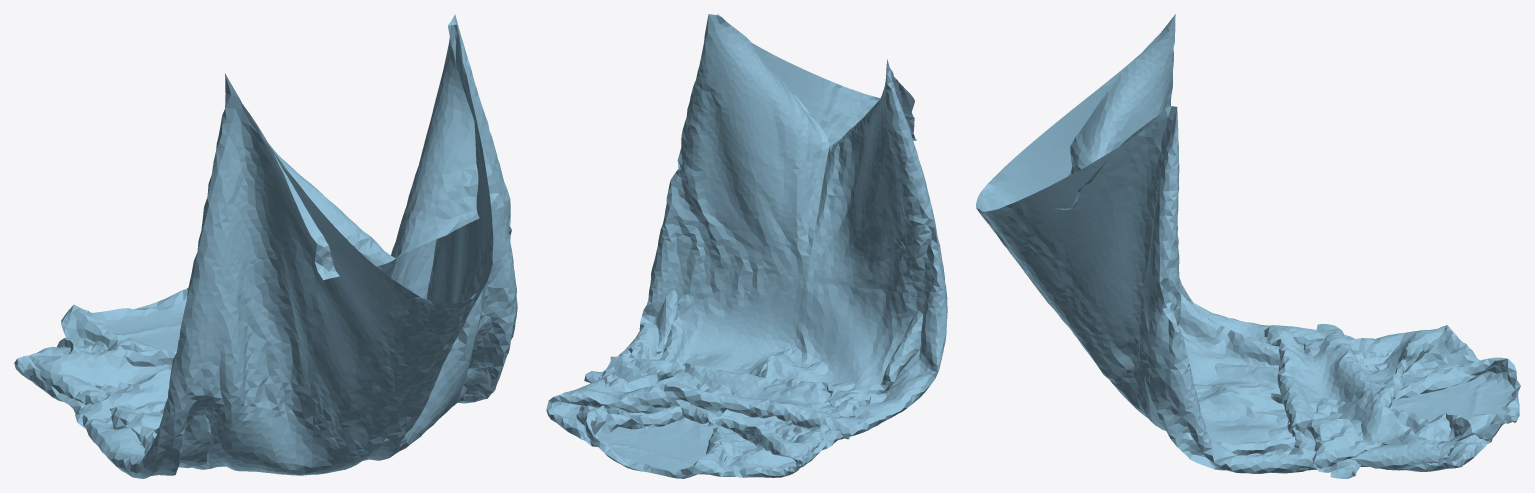
File: frame_10.glb
3 views of the same model, side by side, from view 1: azimuth 30°, elevation 25°; view 2: azimuth 150°, elevation 25°; view 3: azimuth 270°, elevation 25° (orthographic). The views are drawn at different scales.
Visible parts, largest first — view 1: frame_10.obj; view 2: frame_10.obj; view 3: frame_10.obj.
Part boxes in pixels (<box>): frame_10.obj: <box>14,14,517,478</box>; frame_10.obj: <box>546,14,947,478</box>; frame_10.obj: <box>976,14,1520,478</box>.
Size of the model in its own units: 0.922 by 0.9941 by 1.39.
